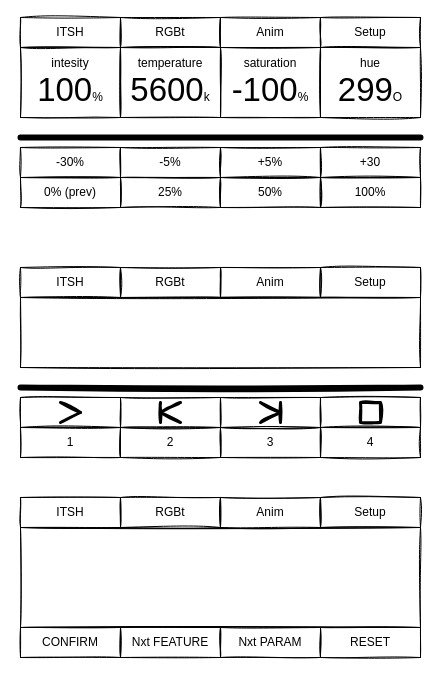
Image size: 441x675. Some labels were removed from this diagram. The shapes that lost their labels are listed below. From the top down, each one's centre as x and y in pixels, then its label:
the point at 220,332: file/frame 3 / 281
the point at 220,577: setup / DMX / universe DMX universe can be in the range of 0-65000 00
